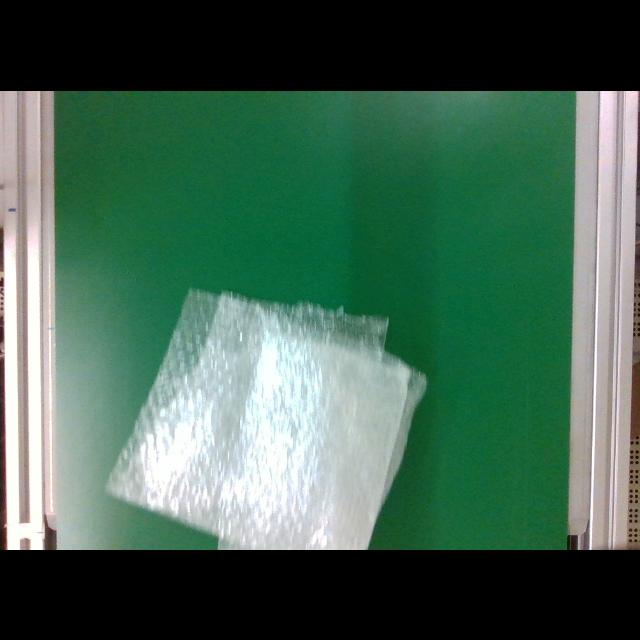scrap_plastic: (111, 278, 427, 546)
